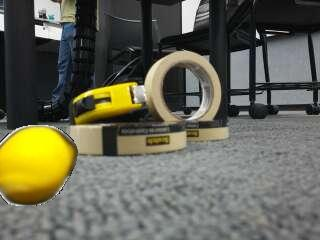lemon: (0, 126, 76, 205)
